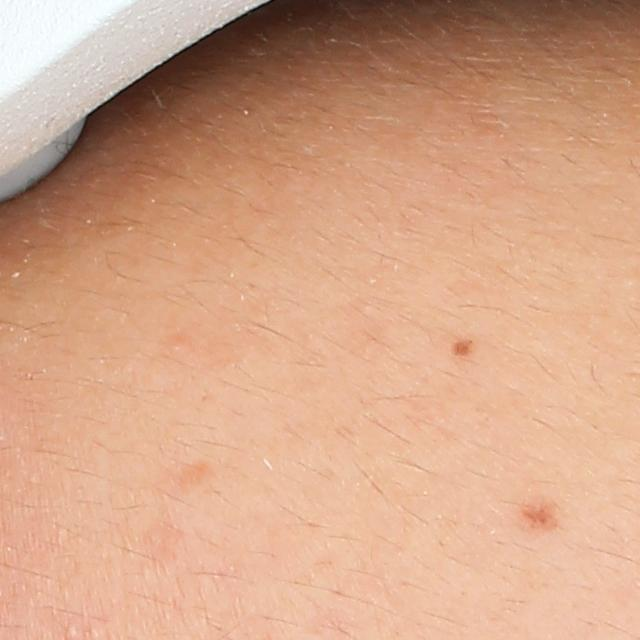nevus: (518, 490, 560, 533), (452, 330, 479, 358)
